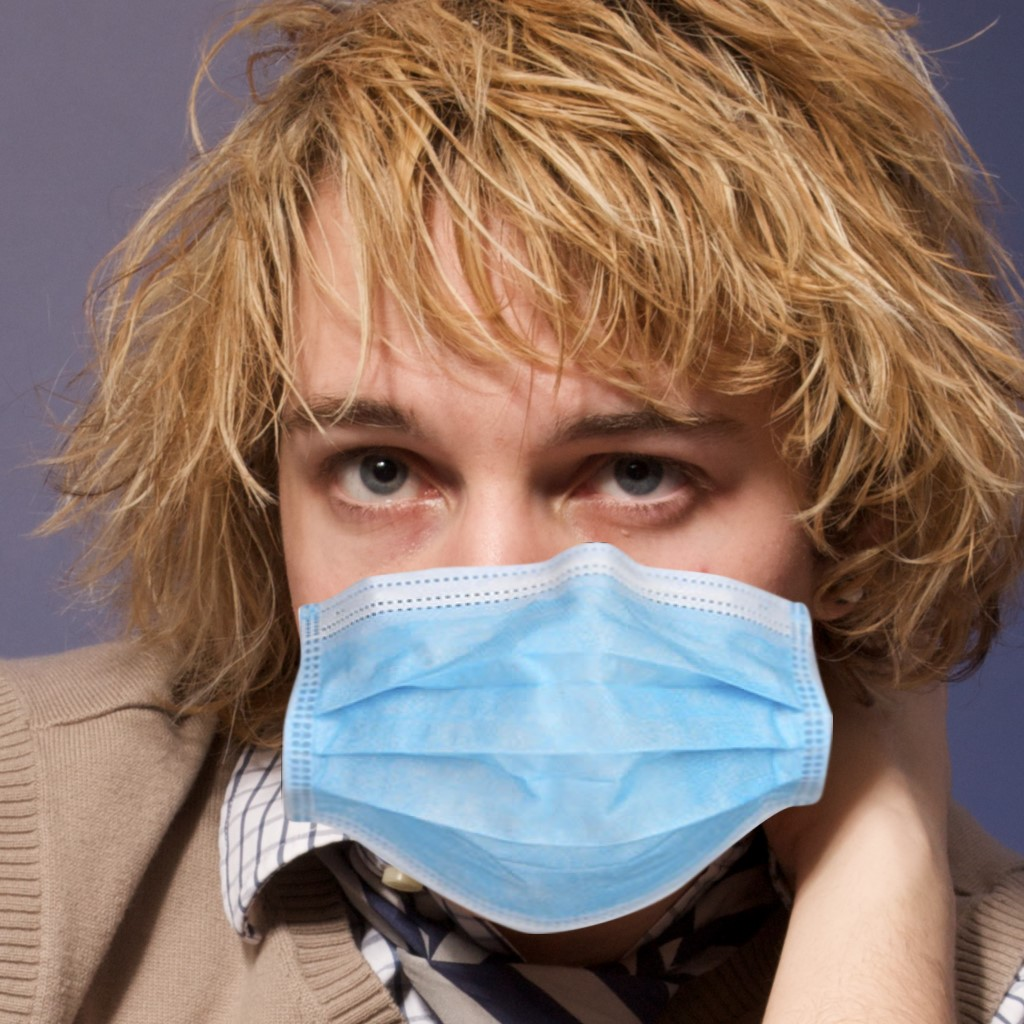con_mascara: (269, 136, 821, 875)
